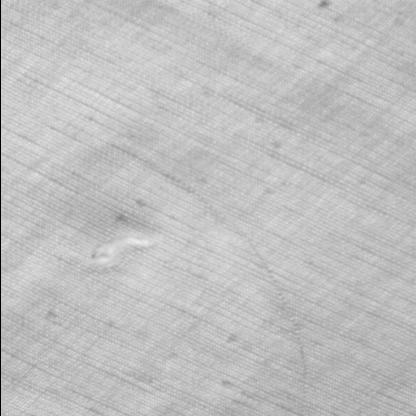objects: (105, 140, 308, 416), (86, 233, 155, 270)
